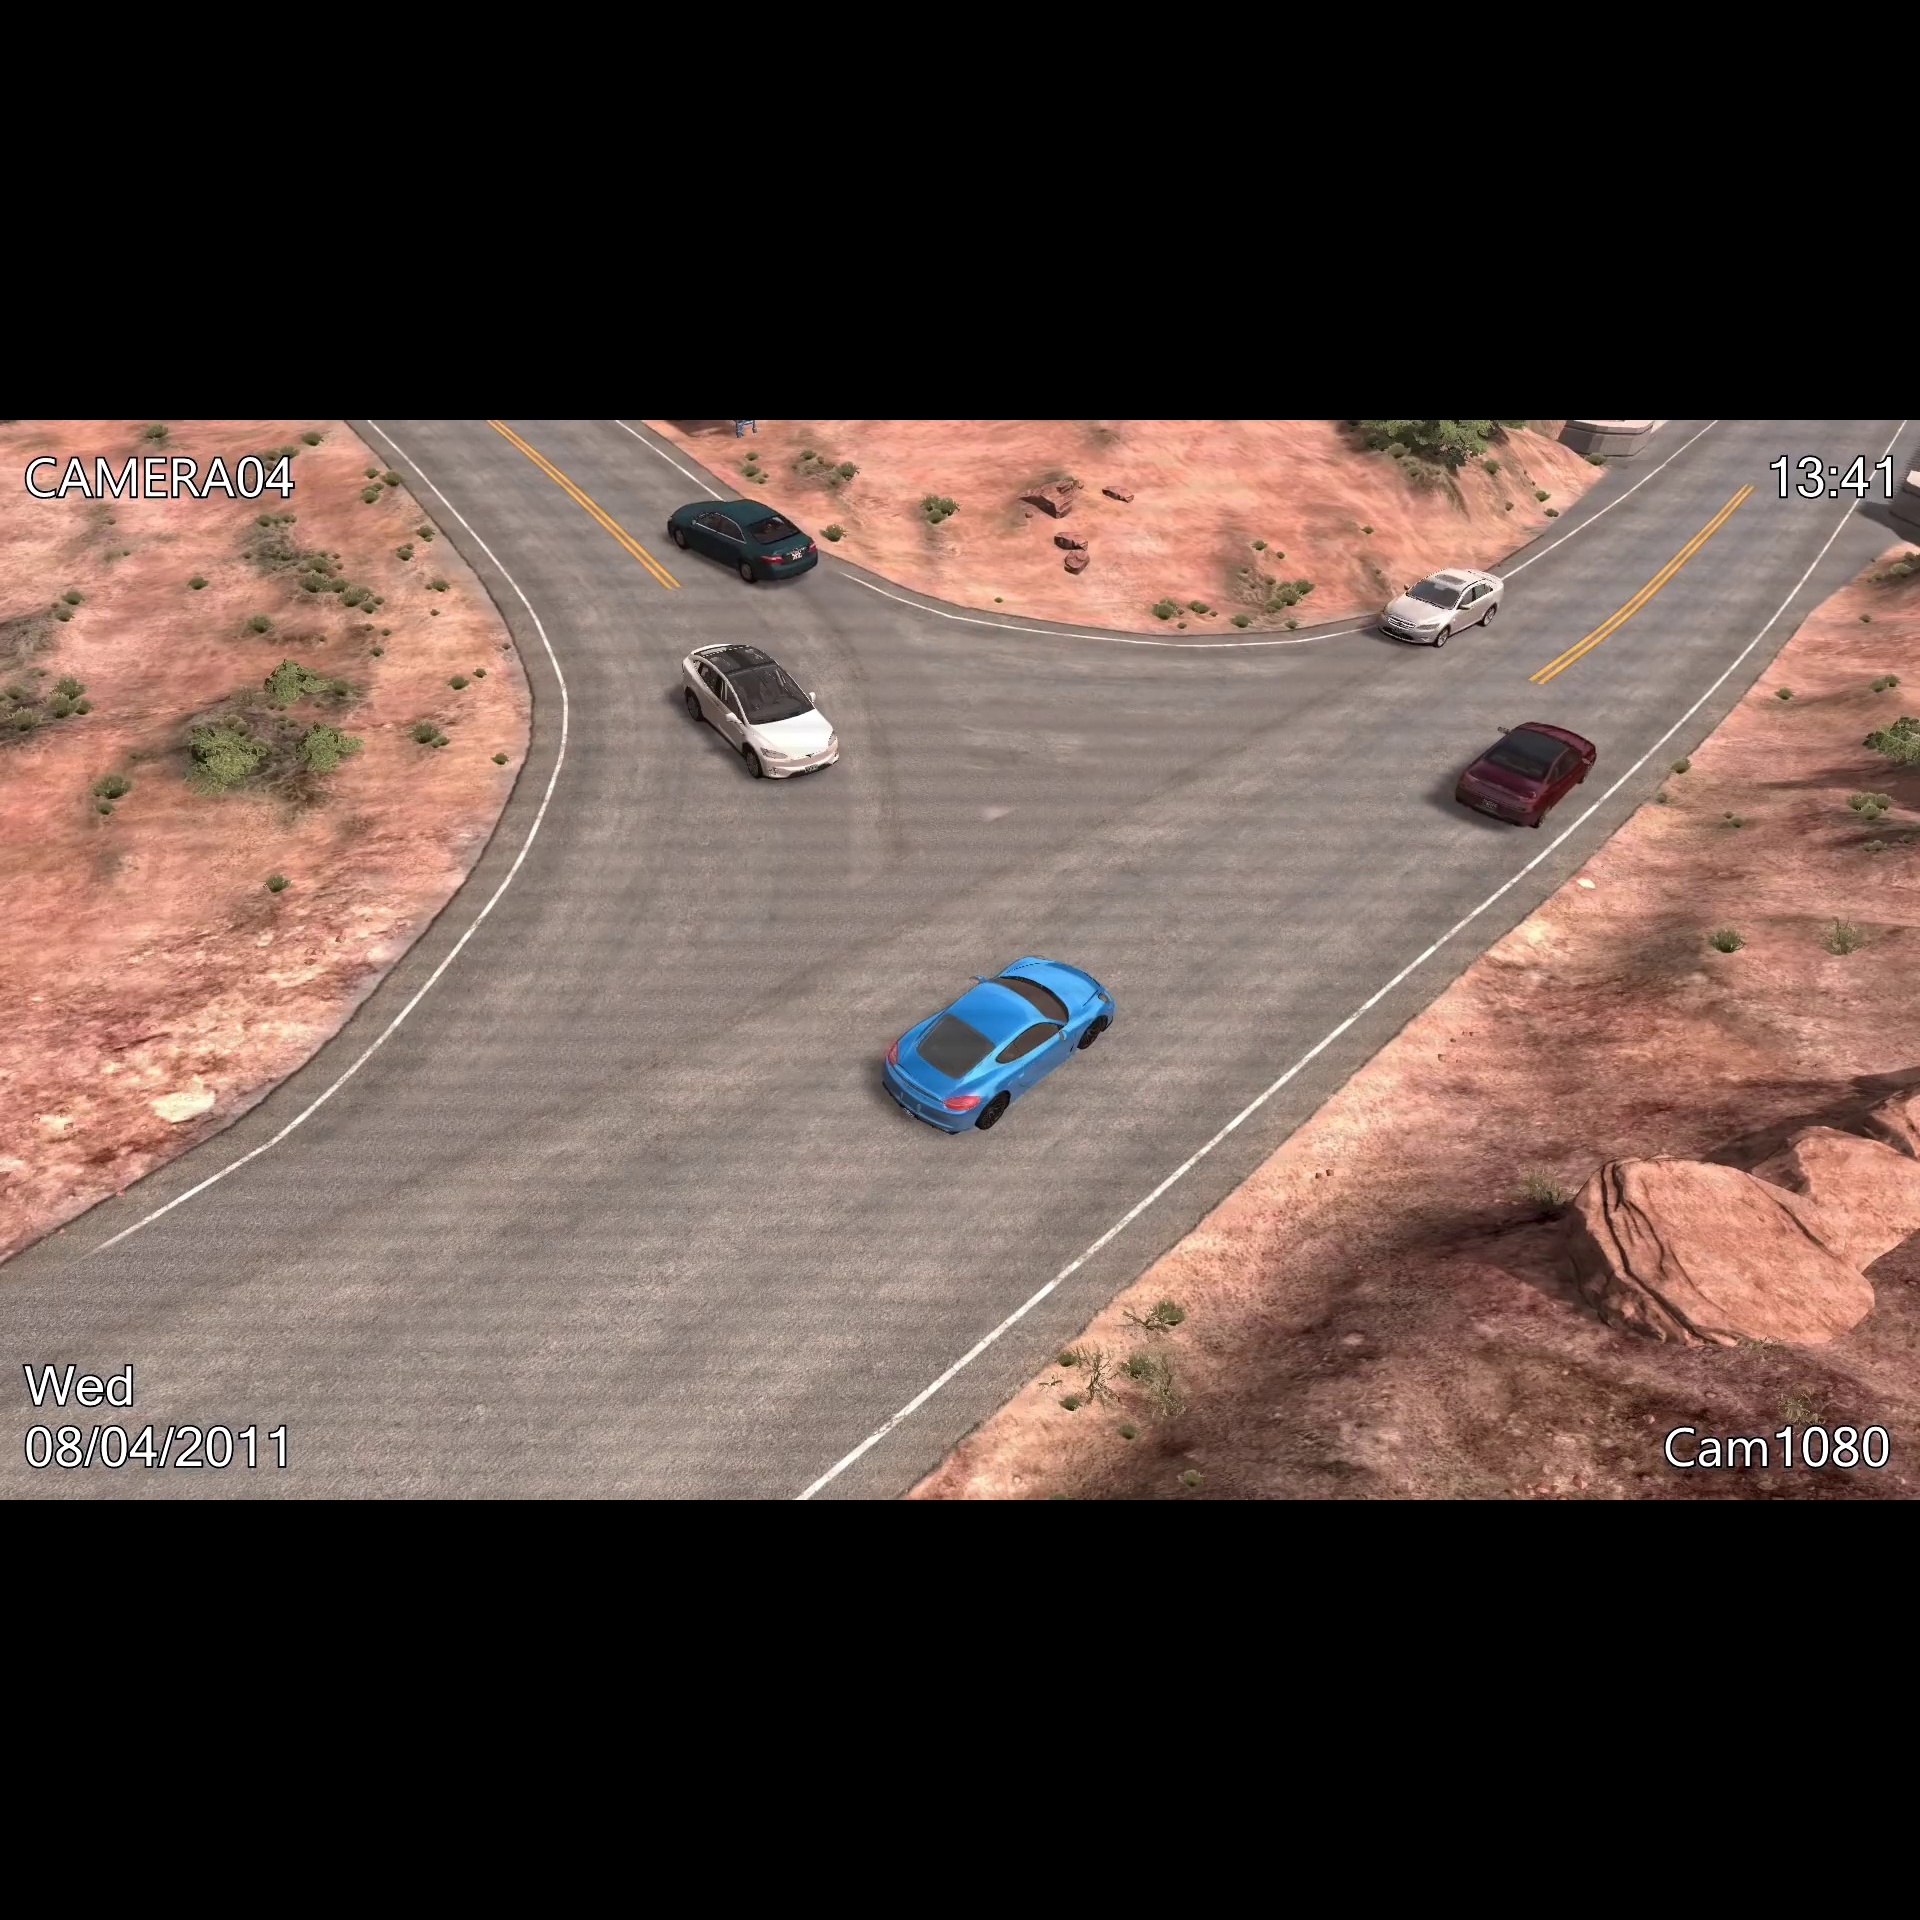vehicle: (877, 944, 1116, 1141), (668, 633, 847, 793), (1449, 716, 1604, 840), (663, 492, 830, 587), (1373, 561, 1512, 656)
